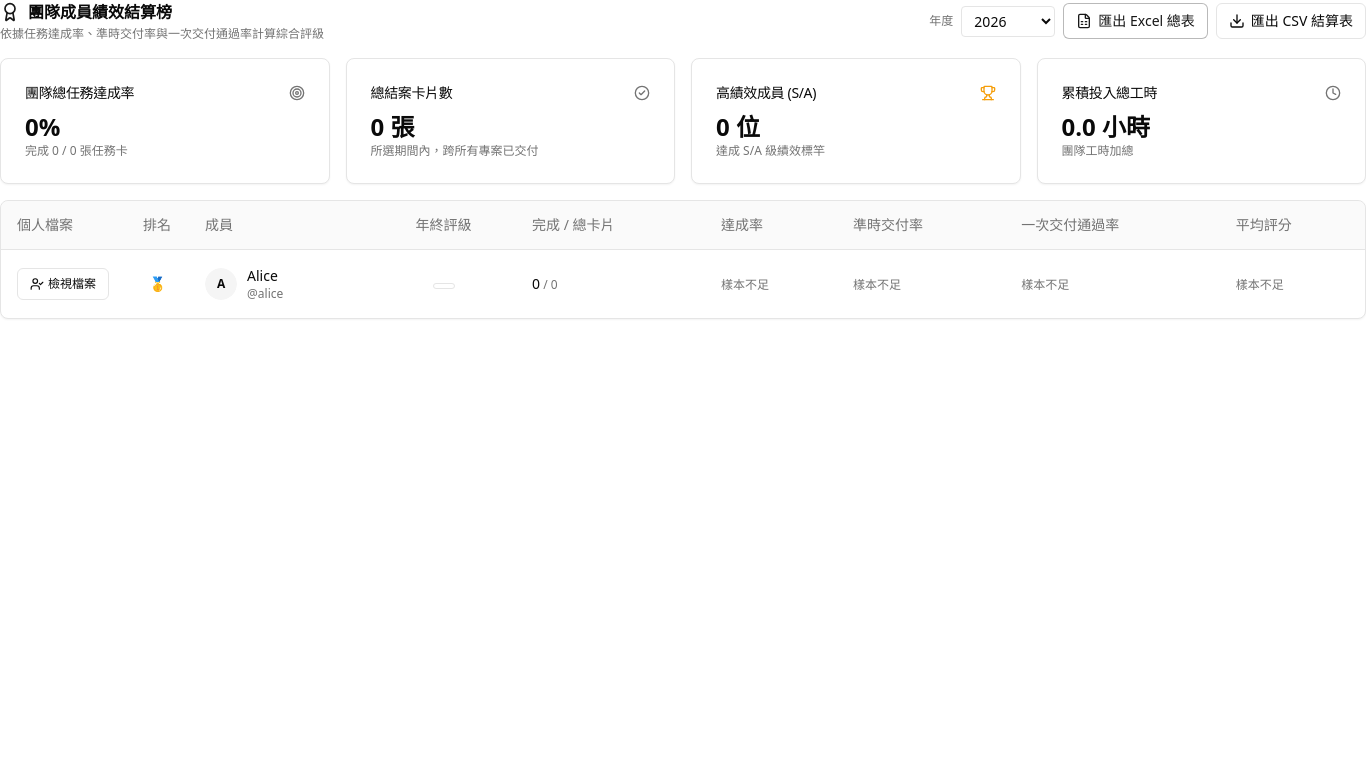
Test: TeamReportTab dossier › 零卡片的成員顯示「樣本不足，不評等」，且不渲染調整項的數字
The image size is (1366, 768).
Click the button "檢視檔案" at (63, 284), box [17, 268, 109, 300]
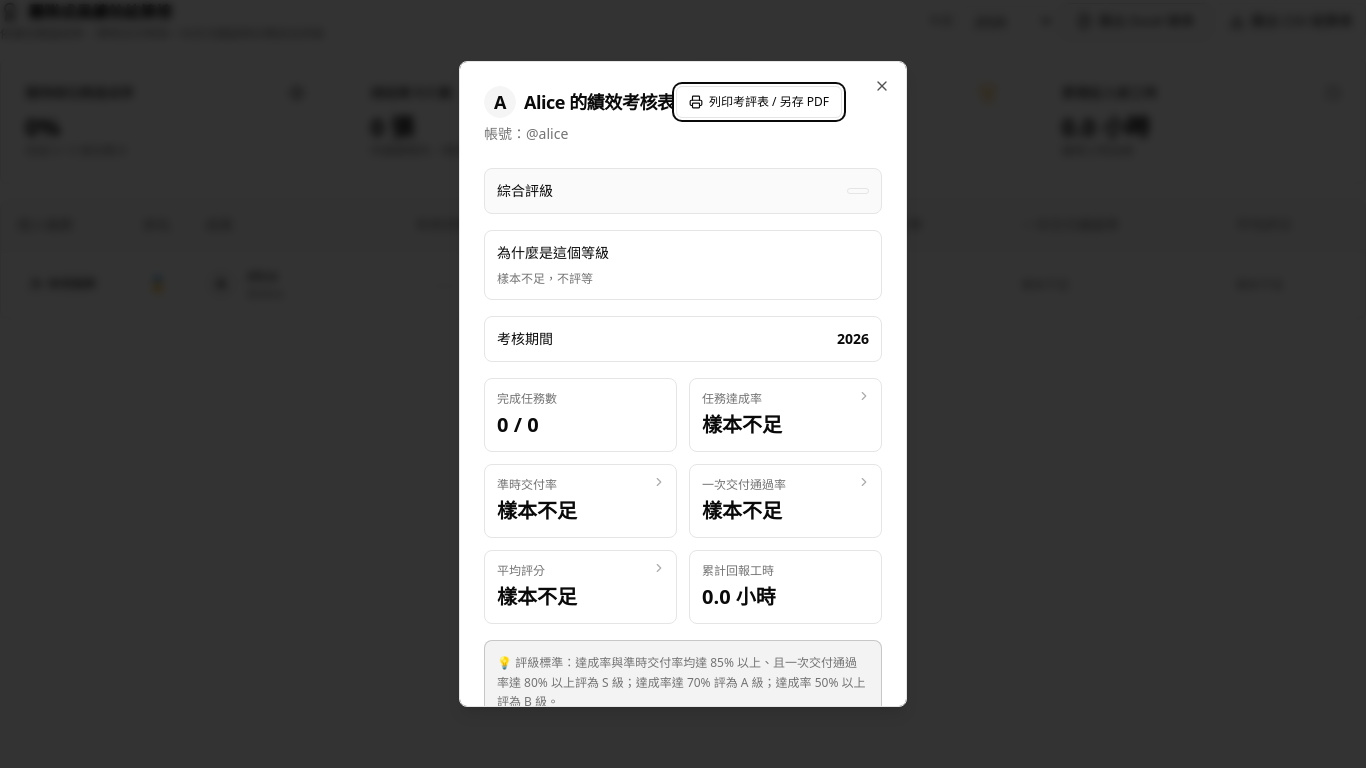
expect the element with test id "rating-explanation" does not show "平均分": met, box [484, 230, 882, 300]
expect the text "樣本不足，不評等" is shown: met, box [497, 270, 593, 287]
